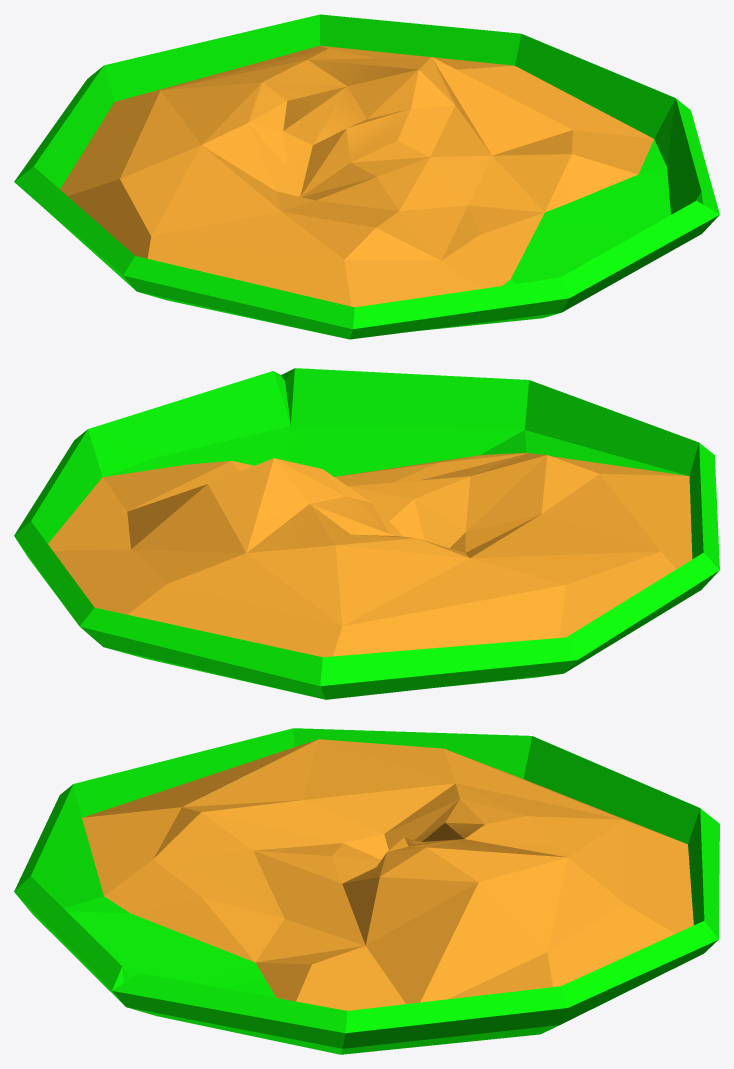
File: SM_Spice_Plate_Fantasy.fbx
3 renders of one model, top to bottom at view 1: azimuth 30°, elevation 25°; view 2: azimuth 150°, elevation 25°; view 3: azimuth 270°, elevation 25°, orthographic. The views are drawn at different scales.
Parts seen in each view (by area): view 1: spice-plate-fantasy; view 2: spice-plate-fantasy; view 3: spice-plate-fantasy.
Part boxes in pixels (x1,y1,x2,y2): spice-plate-fantasy: (14,14,719,339); spice-plate-fantasy: (14,368,719,699); spice-plate-fantasy: (14,728,719,1054).
Size of the model in its own units: 0.5214 by 0.1051 by 0.5242.
